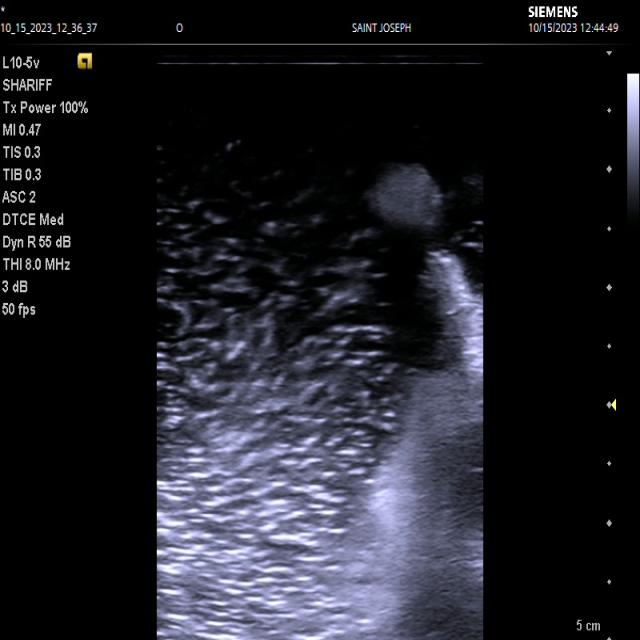tissue: (375, 252, 483, 640), (376, 164, 438, 225)
